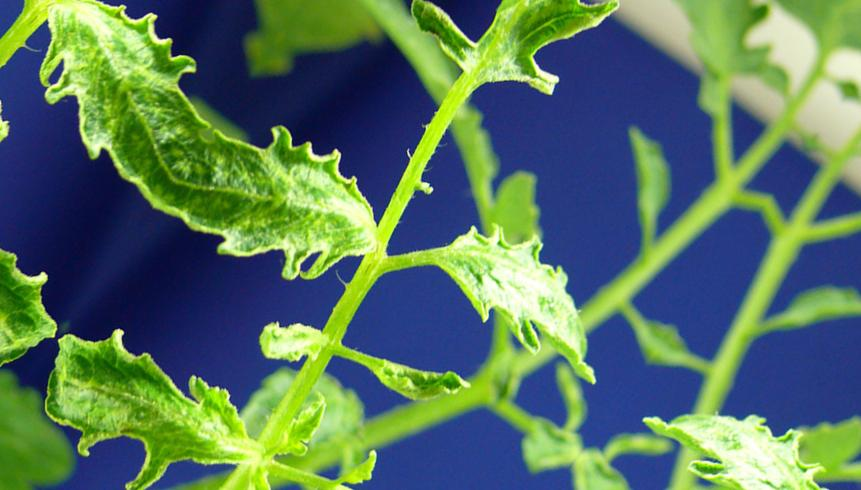Tomato leaf mosaic virus: (132, 69, 420, 357), (3, 262, 295, 490), (409, 184, 658, 412), (387, 0, 692, 144)
